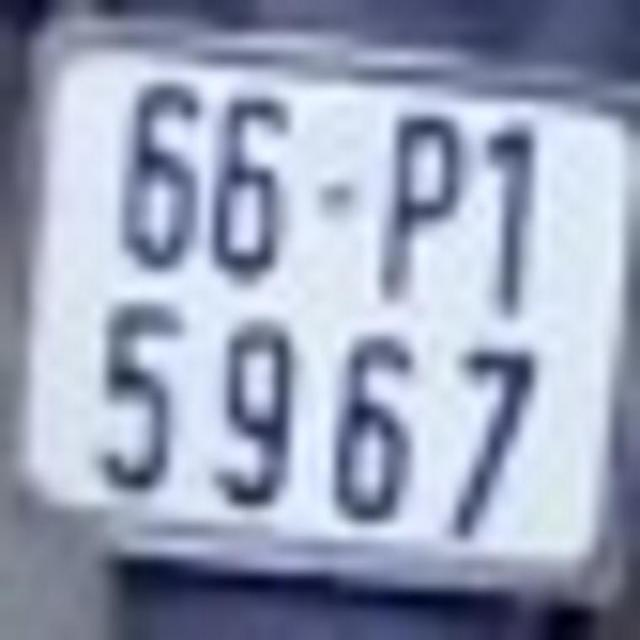1: (480, 114, 549, 320)
5: (98, 289, 186, 489)
6: (330, 316, 418, 526), (125, 71, 202, 272), (213, 92, 291, 271)
7: (442, 331, 538, 548)
9: (222, 315, 296, 512)
P: (375, 106, 470, 309)
